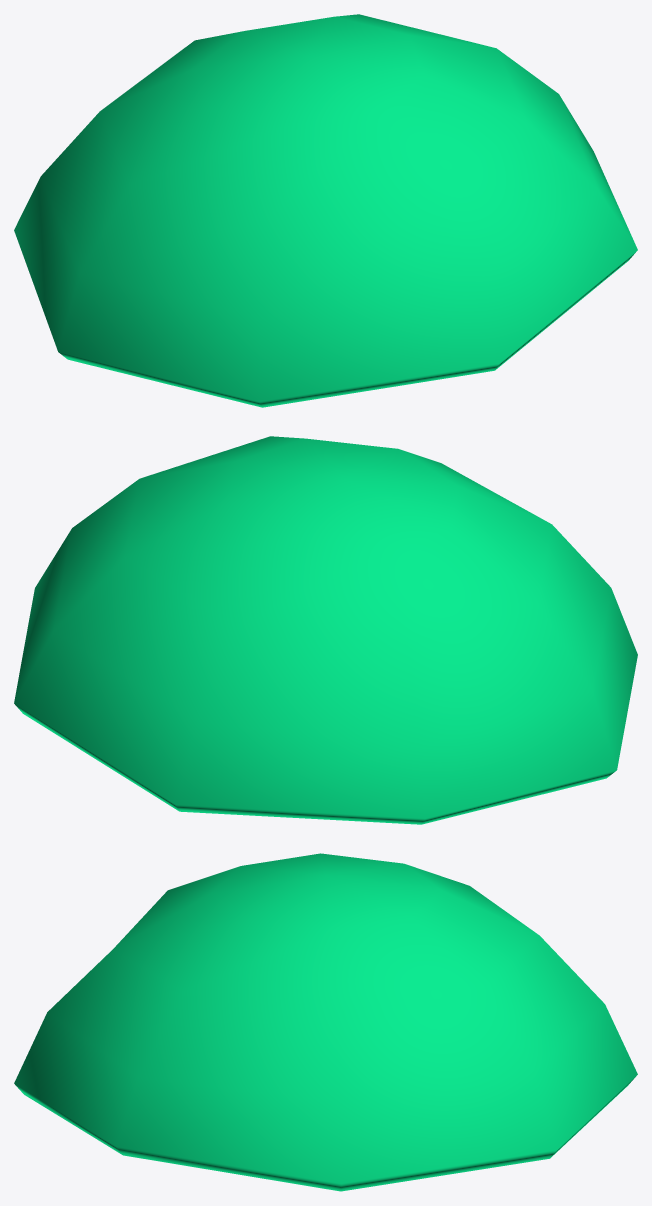
The model's file is Mushroom_01_Head.fbx.
3 views of the same model, one above another, from view 1: azimuth 30°, elevation 25°; view 2: azimuth 150°, elevation 25°; view 3: azimuth 270°, elevation 25° (orthographic). The views are drawn at different scales.
Parts seen in each view (by area): view 1: Mushroom_01_Head; view 2: Mushroom_01_Head; view 3: Mushroom_01_Head.
Boxes of the visible parts, x1,y1,x2,y2 form: Mushroom_01_Head: (14,14,637,407); Mushroom_01_Head: (14,436,637,824); Mushroom_01_Head: (14,853,637,1191).
Bounding box in the file's own units: 17.82 × 7.31 × 17.9.
